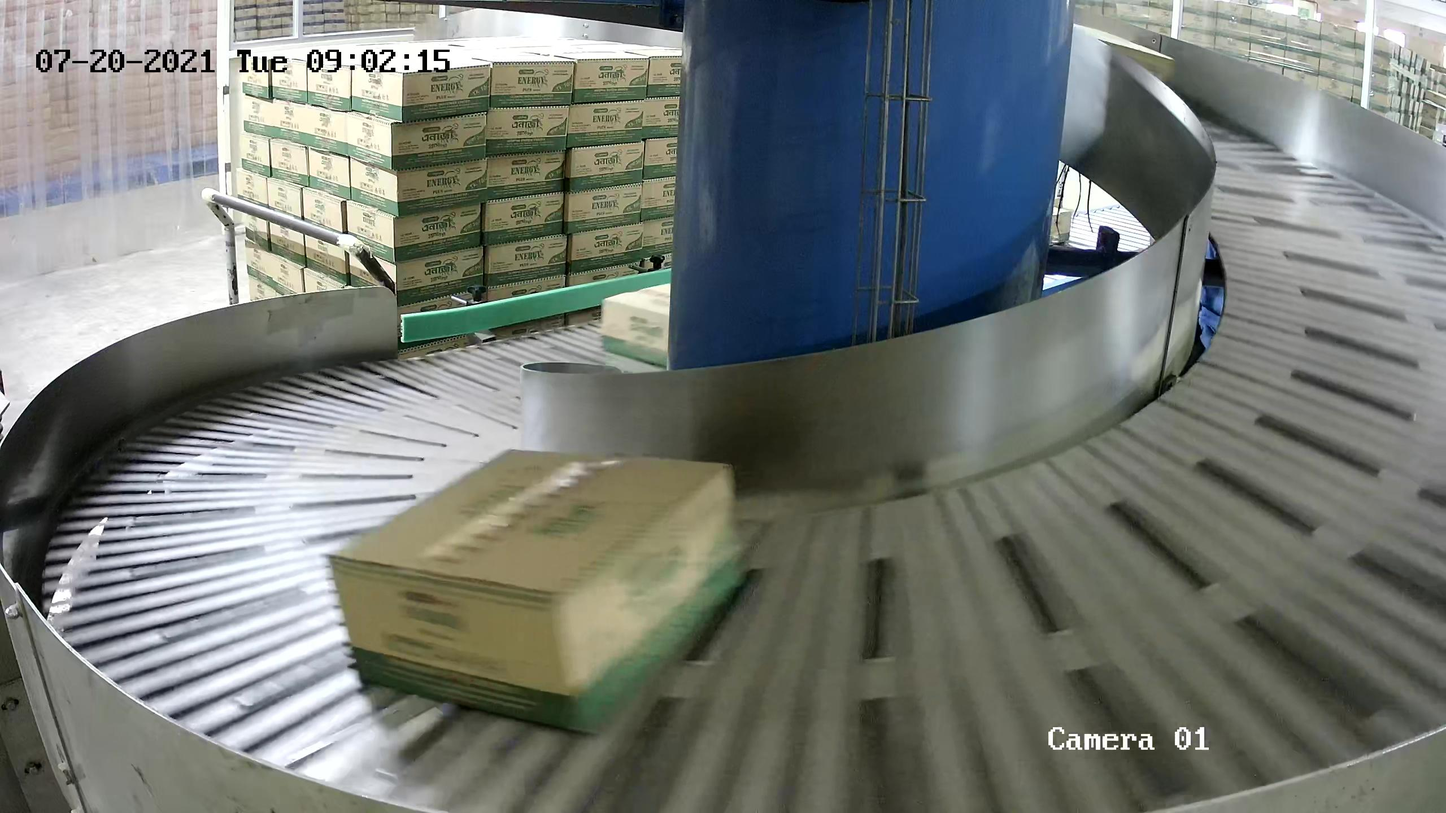Box: (325, 443, 747, 735), (601, 275, 732, 376)
